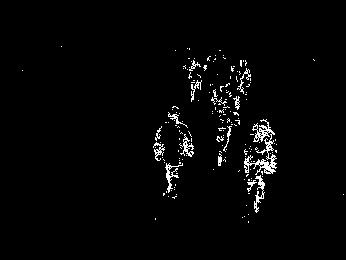person: (153, 105, 195, 199), (244, 117, 277, 220), (210, 84, 243, 169)
